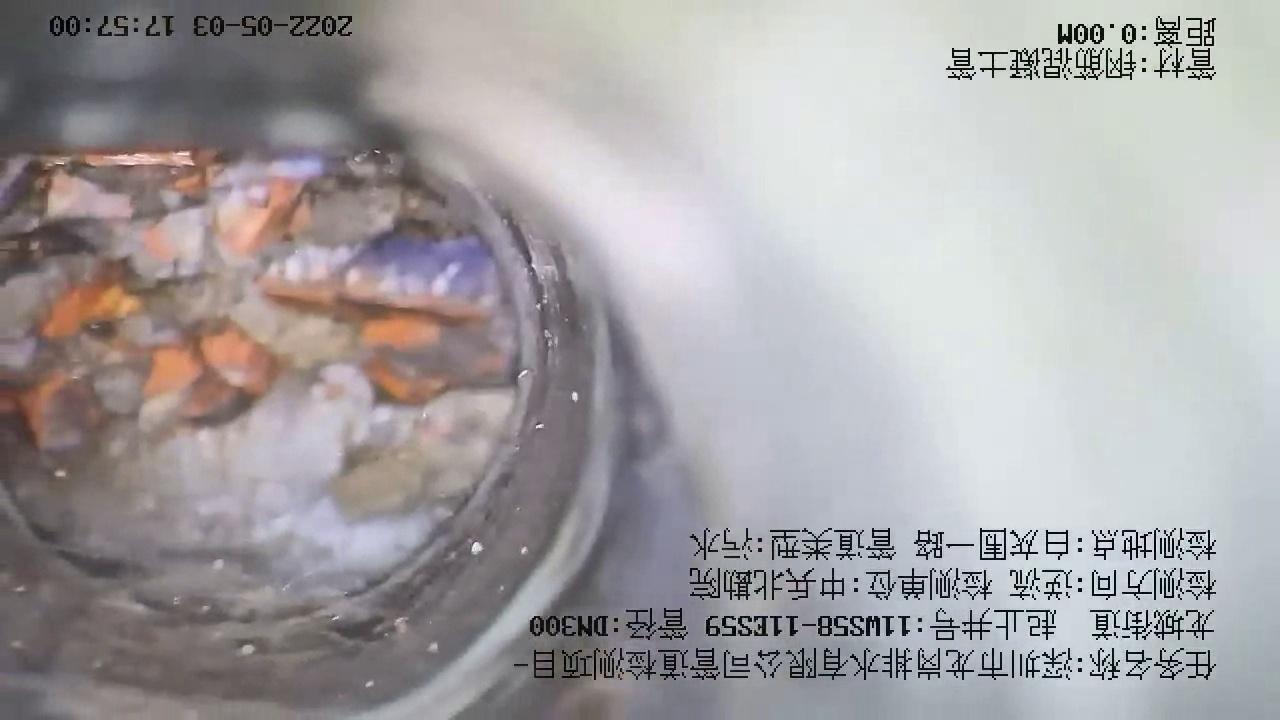CQBG: (1, 152, 531, 616)
